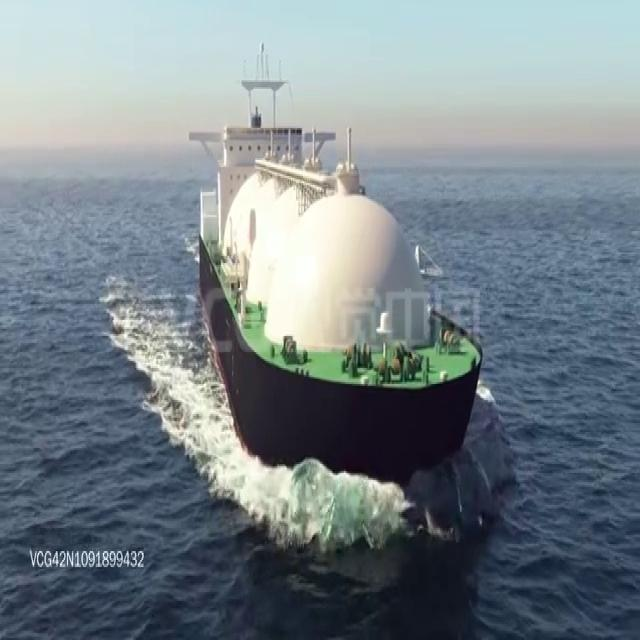cargoship: (188, 39, 474, 477)
